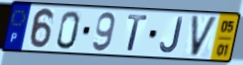0: (55, 9, 83, 51)
6: (28, 6, 56, 51)
9: (91, 11, 117, 53)
J: (159, 16, 185, 55)
T: (126, 13, 149, 53)
V: (190, 14, 220, 59)
